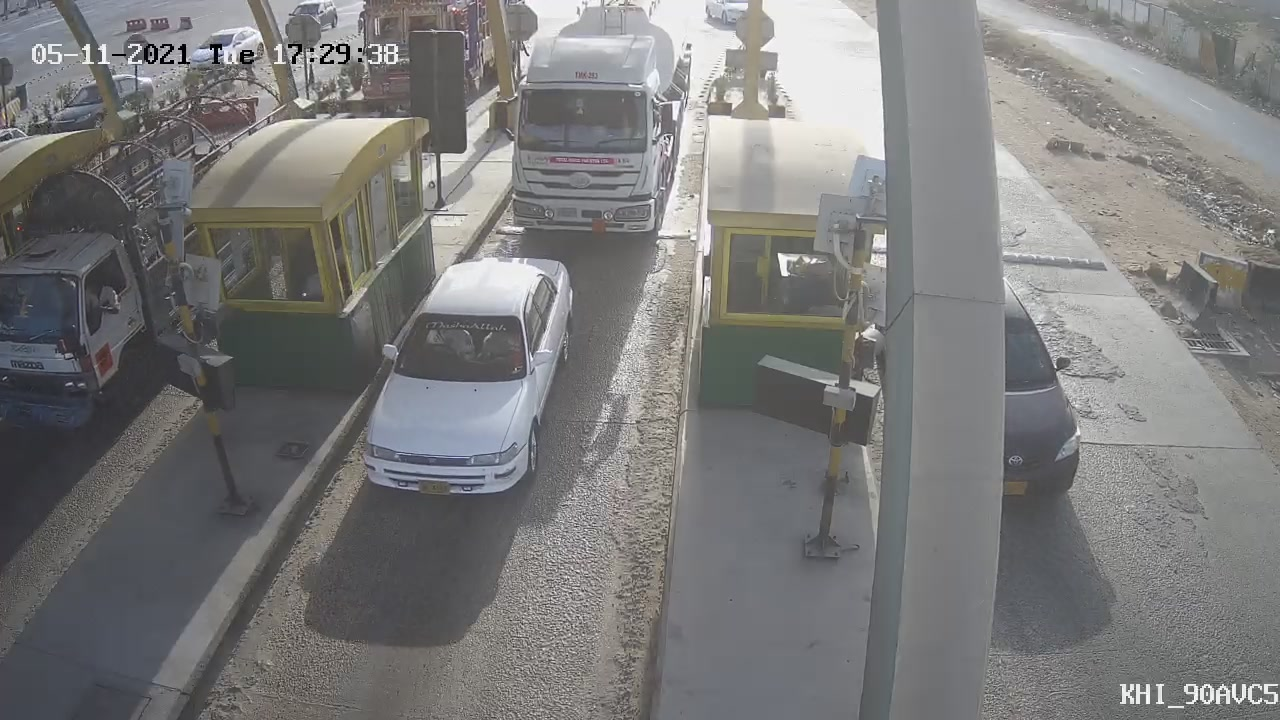F1: (361, 251, 582, 510)
F6: (492, 6, 696, 254)
